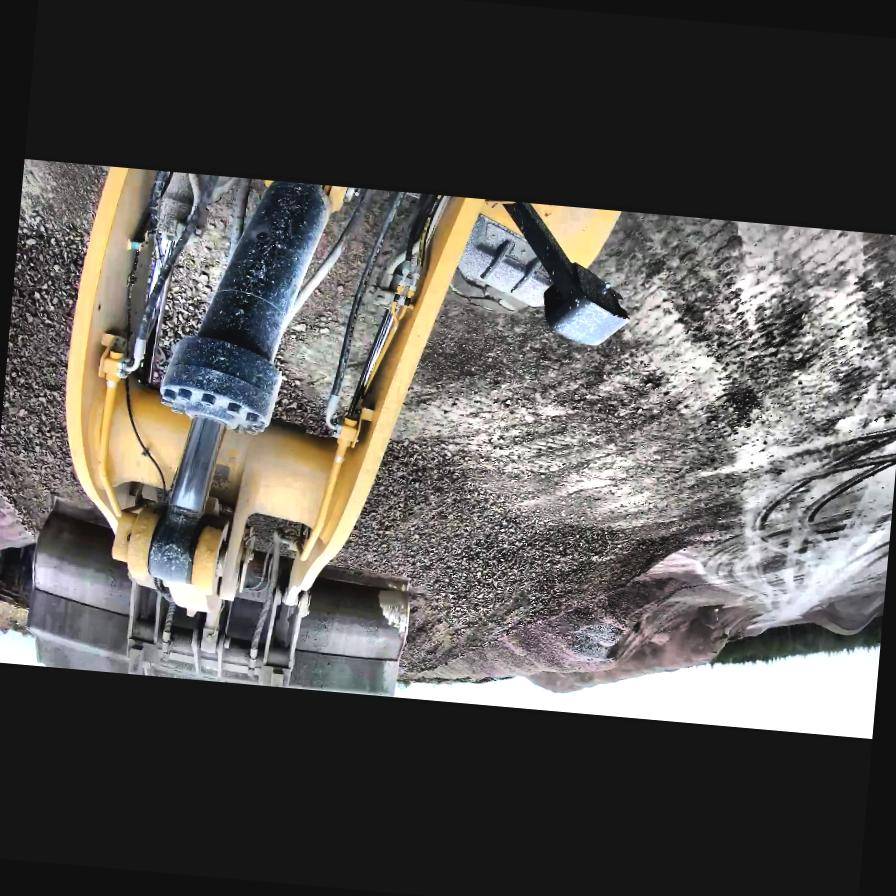anchor: (109, 499, 238, 602)
pile of gravel: (0, 255, 718, 699), (504, 566, 761, 710), (804, 586, 884, 638)
